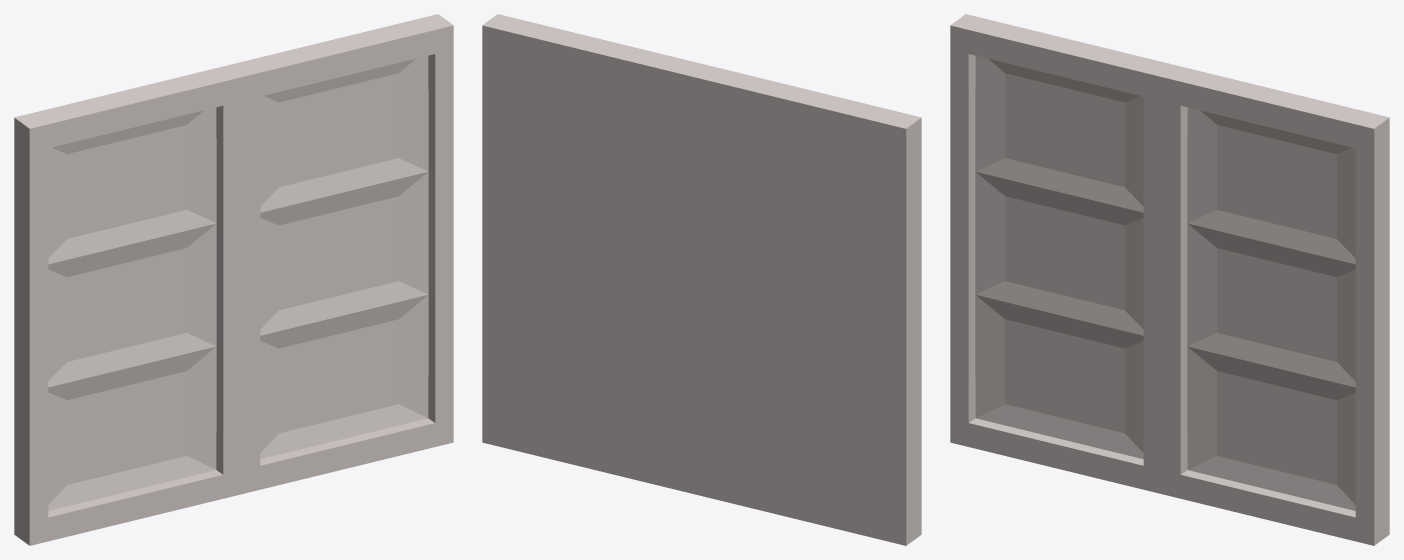
Rendered from fbx_school_outdoor_door2.fbx.
3 renders of one model, left to right at view 1: azimuth 30°, elevation 25°; view 2: azimuth 150°, elevation 25°; view 3: azimuth 330°, elevation 25°, orthographic.
Parts seen in each view (by area): view 1: fbx_school_outdoor_door2; view 2: fbx_school_outdoor_door2; view 3: fbx_school_outdoor_door2.
Boxes of the visible parts, box(x1,y1,x2,y2) form: fbx_school_outdoor_door2: box(14, 14, 453, 545); fbx_school_outdoor_door2: box(482, 14, 921, 545); fbx_school_outdoor_door2: box(950, 14, 1389, 545).
Bounding box in the file's own units: 1.1 × 1.03 × 0.07.
Materials: 1 (1 with a texture image).
